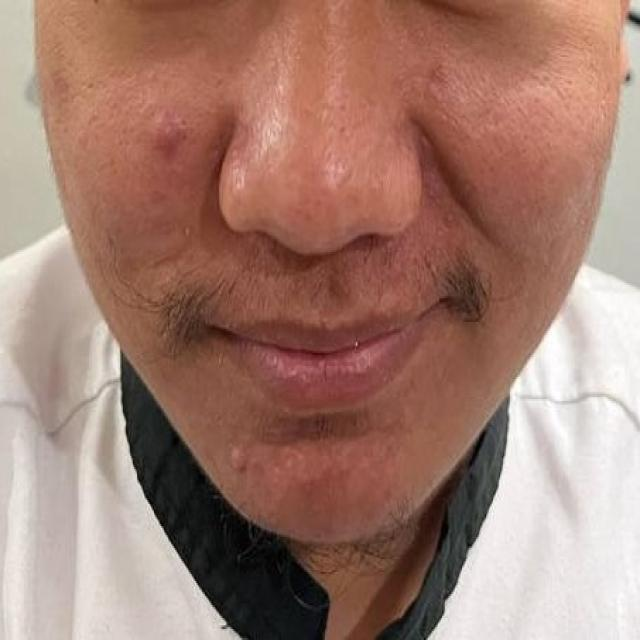Acne: (139, 100, 193, 155), (222, 436, 256, 469)
